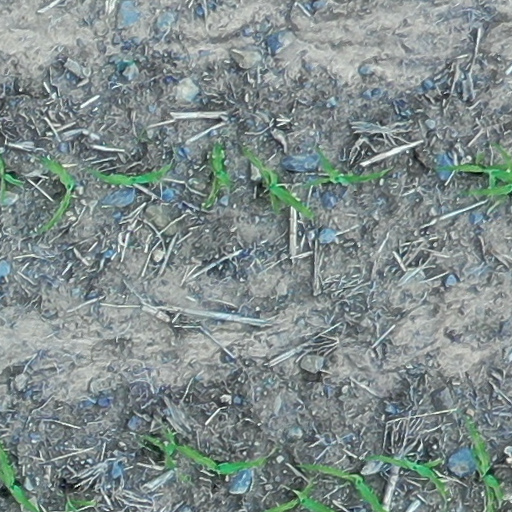planta: (245, 149, 313, 217), (302, 148, 388, 187), (370, 454, 447, 494), (173, 444, 264, 475), (437, 162, 509, 196), (42, 158, 75, 230), (93, 165, 171, 186), (206, 143, 231, 205)
